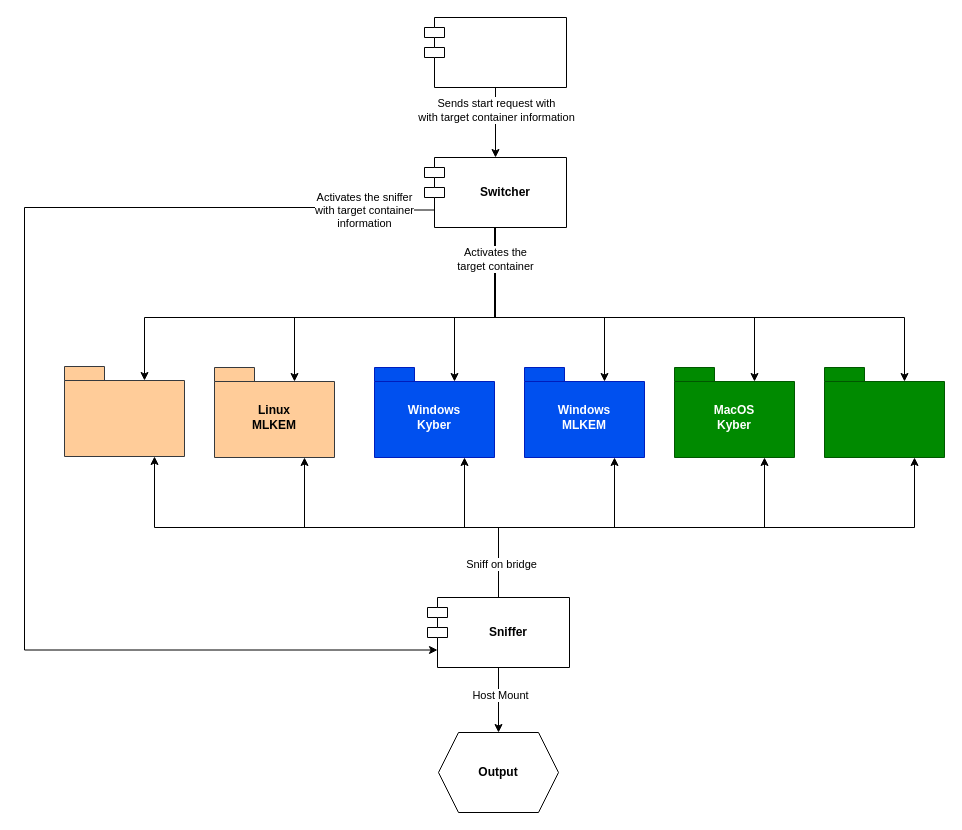
Some shapes in this 962 by 830 pixel diagram are drawn without their labels. Here are the shapes that lost their labels. From the top down, the box of each, then its label:
(424, 16, 566, 88): Agent
(64, 366, 184, 456): Linux Kyber
(824, 366, 944, 458): MacOS MLKEM
